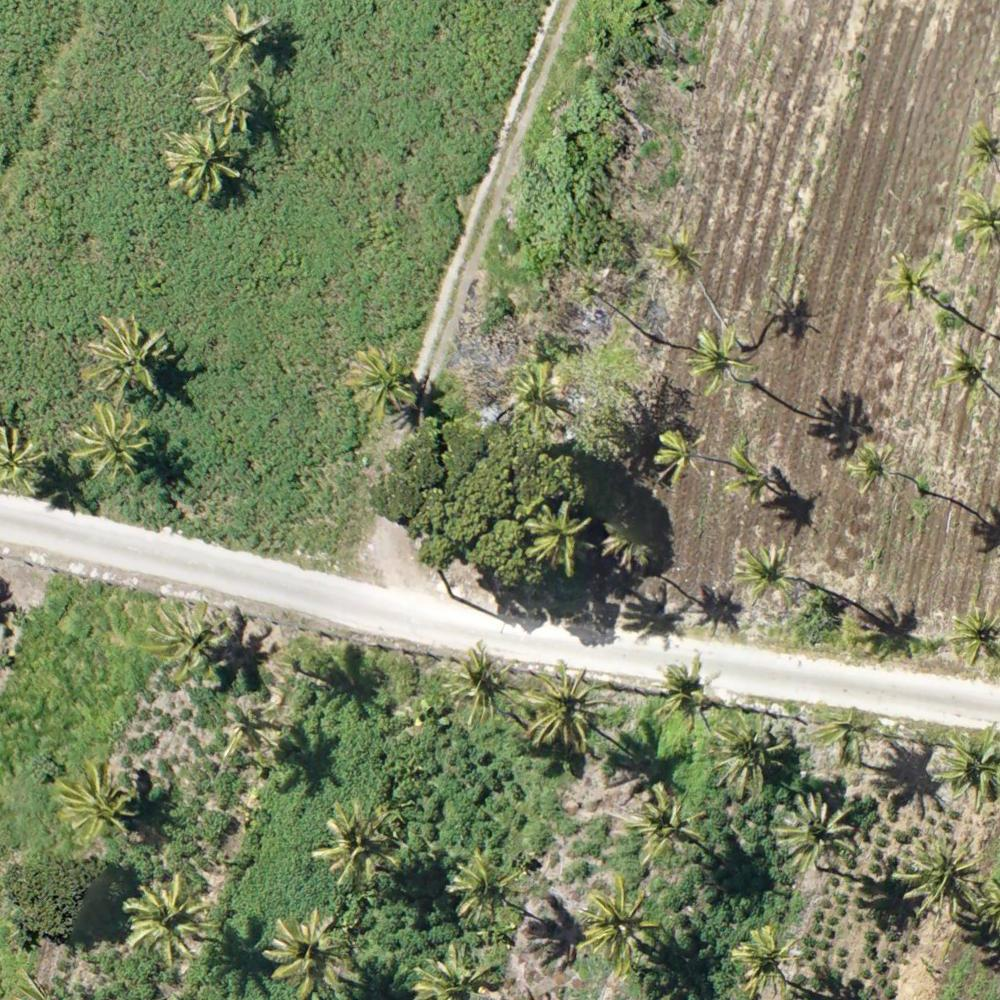Palm: (125, 877, 216, 963), (516, 666, 607, 752), (142, 600, 229, 681), (268, 909, 350, 994), (87, 314, 168, 399), (713, 707, 790, 793), (53, 762, 134, 841), (319, 805, 402, 881), (580, 881, 655, 965), (904, 838, 984, 916), (724, 927, 805, 999), (930, 723, 1000, 806), (631, 784, 707, 860), (72, 404, 145, 481), (498, 364, 576, 435), (775, 797, 855, 866), (452, 643, 517, 727), (166, 128, 242, 199), (451, 848, 518, 922), (734, 542, 805, 611), (528, 502, 598, 571), (348, 346, 421, 412), (656, 661, 722, 727), (216, 697, 283, 761), (808, 709, 876, 772), (693, 325, 755, 392), (201, 5, 268, 65), (187, 72, 251, 129), (947, 605, 1000, 668), (646, 229, 706, 283), (879, 257, 936, 311), (942, 341, 991, 401), (846, 439, 891, 498), (655, 429, 707, 479), (954, 191, 1000, 244)
